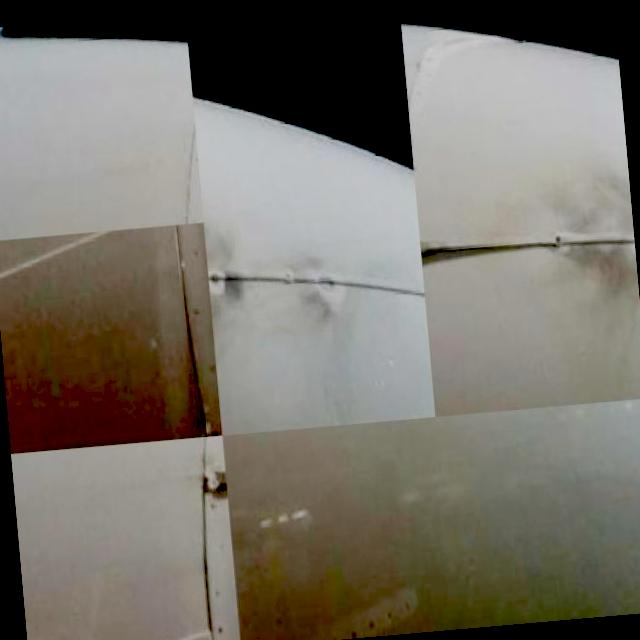crack: (420, 237, 552, 268)
